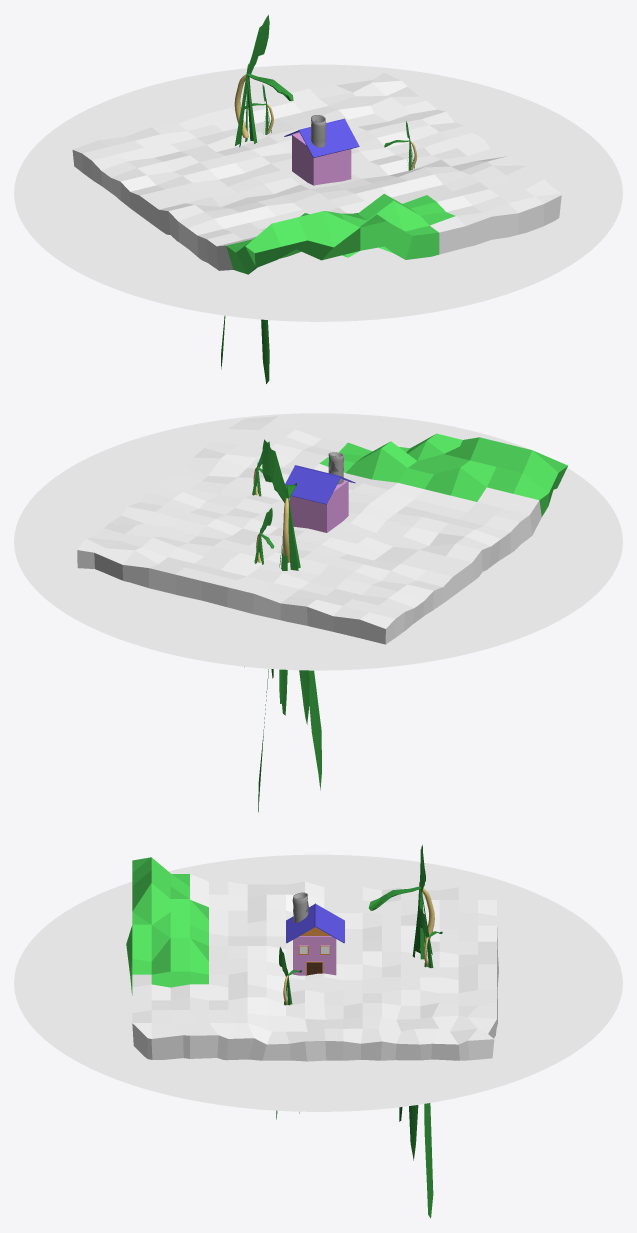
The model's file is casita.glb.
3 views of the same model, one above another, from view 1: azimuth 30°, elevation 25°; view 2: azimuth 150°, elevation 25°; view 3: azimuth 270°, elevation 25° (orthographic).
Visible parts, largest first — view 1: Sphere.001, Plane, Cube, Plane.001, Plane.016, Plane.015; view 2: Plane, Sphere.001, Cube, Plane.002, Plane.018, Plane.015, Plane.014; view 3: Plane, Sphere.001, Cube, Plane.016, Plane.002, Plane.001, Plane.018.
Boxes of the visible parts, x1,y1,x2,y2 form: Sphere.001: (14,64,622,321); Plane: (72,72,561,274); Cube: (292,132,351,185); Plane.001: (298,118,359,157); Plane.016: (247,76,269,383); Plane.015: (246,14,269,78); Plane: (77,416,567,644); Sphere.001: (14,413,622,670); Cube: (289,480,348,532); Plane.002: (285,465,340,504); Plane.018: (288,492,321,790); Plane.015: (262,439,286,502); Plane.014: (286,485,309,724); Plane: (126,857,498,1061); Sphere.001: (14,854,622,1111); Cube: (293,927,336,975); Plane.016: (419,889,433,1218); Plane.002: (314,903,344,943); Plane.001: (286,903,316,943); Plane.018: (409,882,420,1160).
Size of what is drawn, in the model's own units: 2.83 by 1.91 by 2.83.
